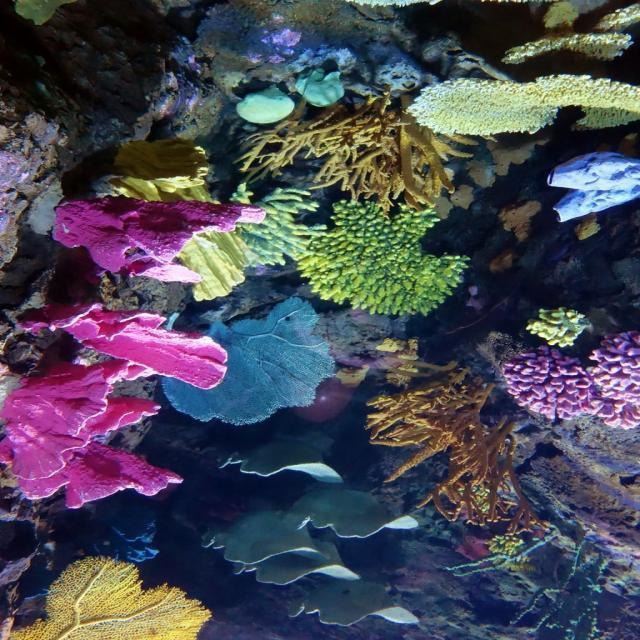Bleached: (191, 430, 424, 637), (399, 59, 640, 154)
Healthy: (1, 356, 181, 504), (371, 381, 540, 538), (295, 194, 471, 325), (167, 296, 332, 428), (28, 188, 264, 280), (245, 114, 457, 213), (445, 522, 620, 640), (1, 555, 218, 640), (491, 323, 640, 433), (529, 150, 640, 235)
